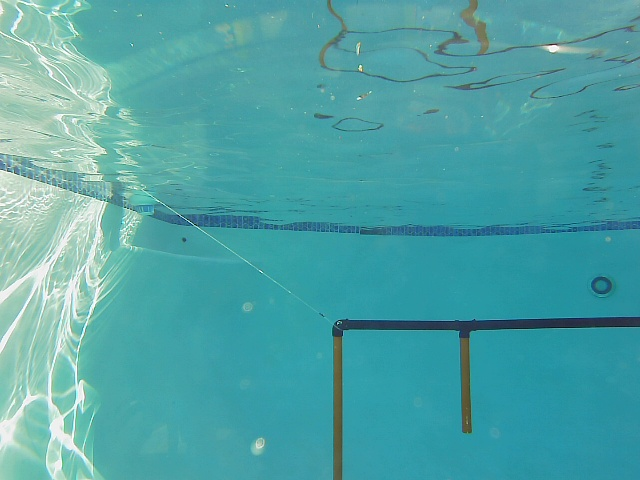Gate: (329, 330, 349, 479), (455, 332, 475, 437)
